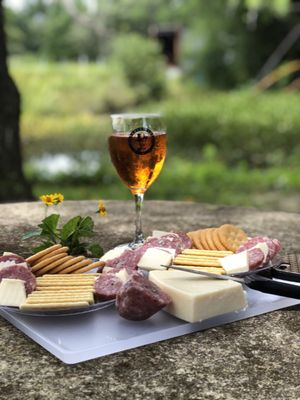curry: (0, 192, 299, 397)
sandwich: (108, 115, 168, 244)
